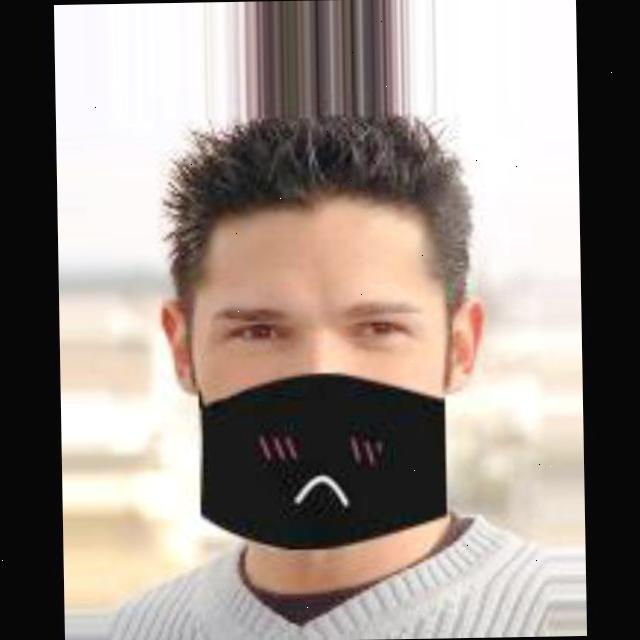suspicion: (153, 102, 475, 548)
